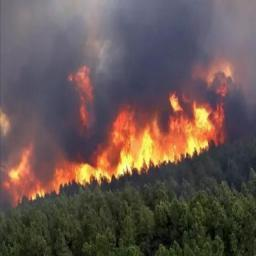Heavy smoke: (0, 0, 256, 122)
Large fire: (0, 68, 238, 200)
